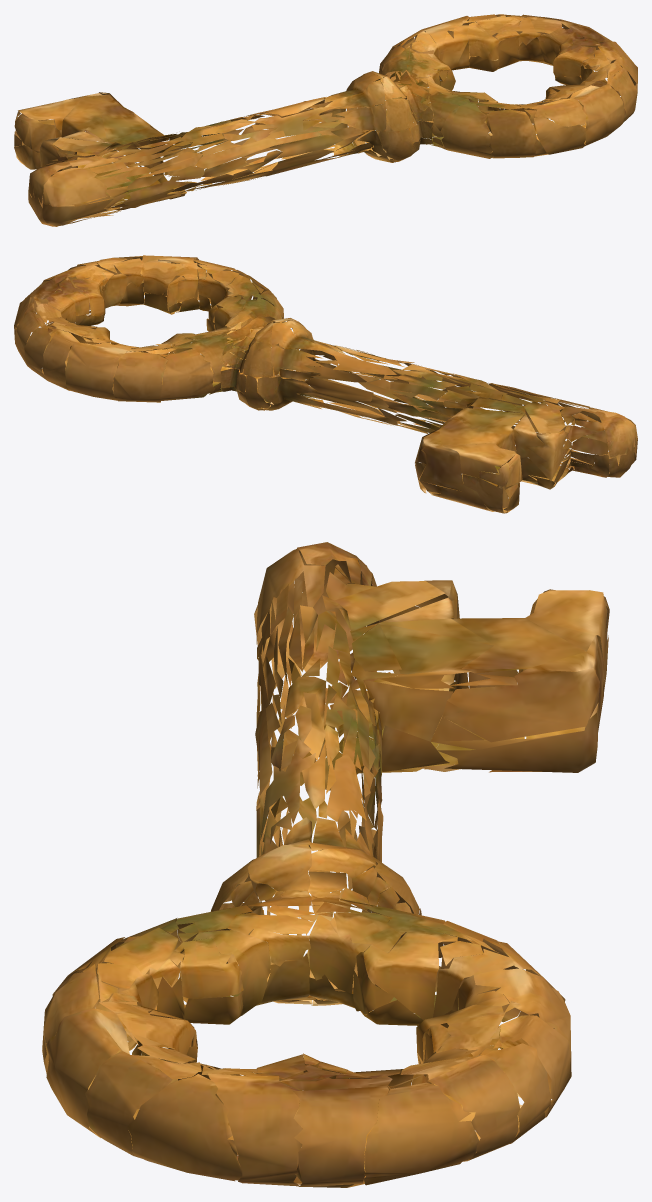
Rendered from key.glb.
3 renders of one model, top to bottom at view 1: azimuth 30°, elevation 25°; view 2: azimuth 150°, elevation 25°; view 3: azimuth 270°, elevation 25°, orthographic. The views are drawn at different scales.
Parts seen in each view (by area): view 1: key; view 2: key; view 3: key.
Boxes of the visible parts, left/top/right/bottom form: key: left=14, top=14, right=637, bottom=226; key: left=14, top=255, right=637, bottom=513; key: left=42, top=542, right=609, bottom=1187.
Bounding box in the file's own units: 0.0605 × 0.00797 × 0.0254.
Materials: 1 (1 with a texture image).
